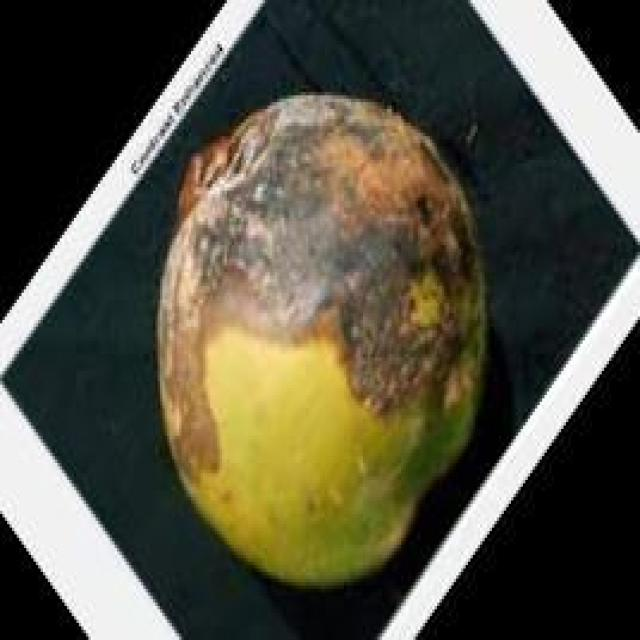damaged: (160, 95, 482, 582)
